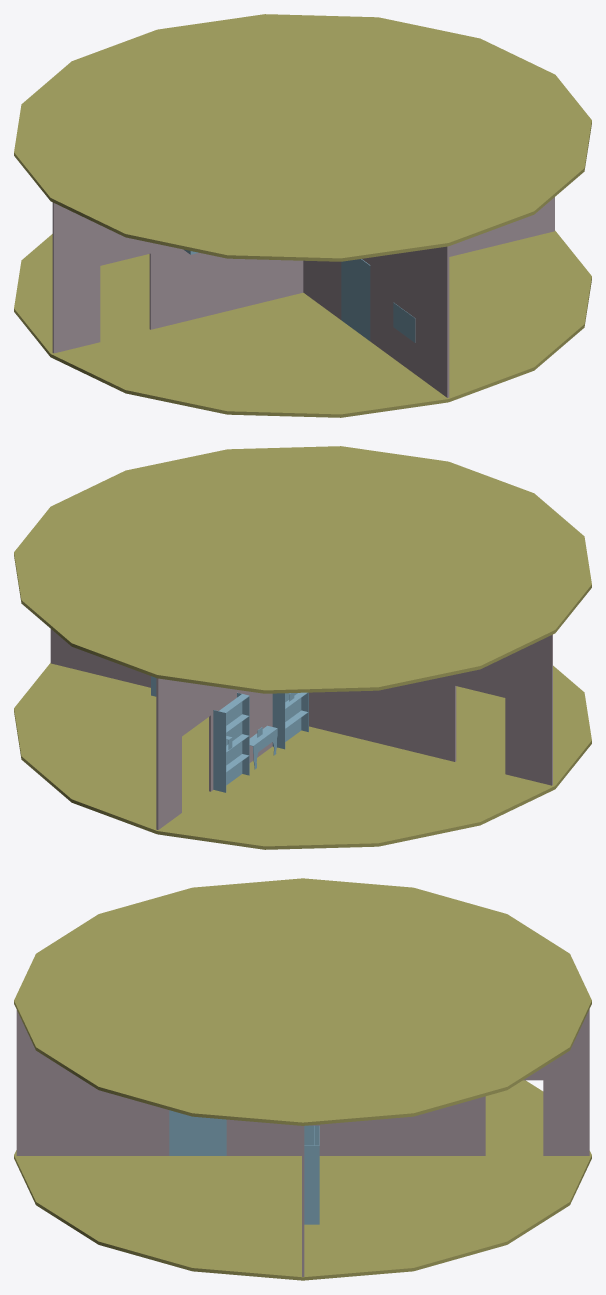
The model's file is TutorialNuevo_v2.fbx.
3 renders of one model, top to bottom at view 1: azimuth 30°, elevation 25°; view 2: azimuth 150°, elevation 25°; view 3: azimuth 270°, elevation 25°, orthographic.
Parts seen in each view (by area): view 1: Roof, Floor, Walls, Door, Painting; view 2: Roof, Floor, Walls, BookShelfBaseVase, BookShelfBaseBox, DeskBook; view 3: Roof, Floor, Walls, Door, BaseArmario.
Part boxes in pixels (x1,y1,x2,y2): Roof: (14,14,591,261); Floor: (14,230,591,417); Walls: (52,197,554,397); Door: (341,259,370,340); Painting: (393,302,415,342); Roof: (14,446,591,693); Floor: (14,663,591,849); Walls: (50,629,552,829); BookShelfBaseVase: (213,692,249,792); BookShelfBaseBox: (272,692,308,749); DeskBook: (249,725,277,769); Roof: (14,878,591,1125); Floor: (14,1080,591,1280); Walls: (16,1009,589,1276); Door: (169,1110,226,1155); BaseArmario: (304,1125,319,1224).
Size of the model in its own units: 1828 by 552 by 1828.
